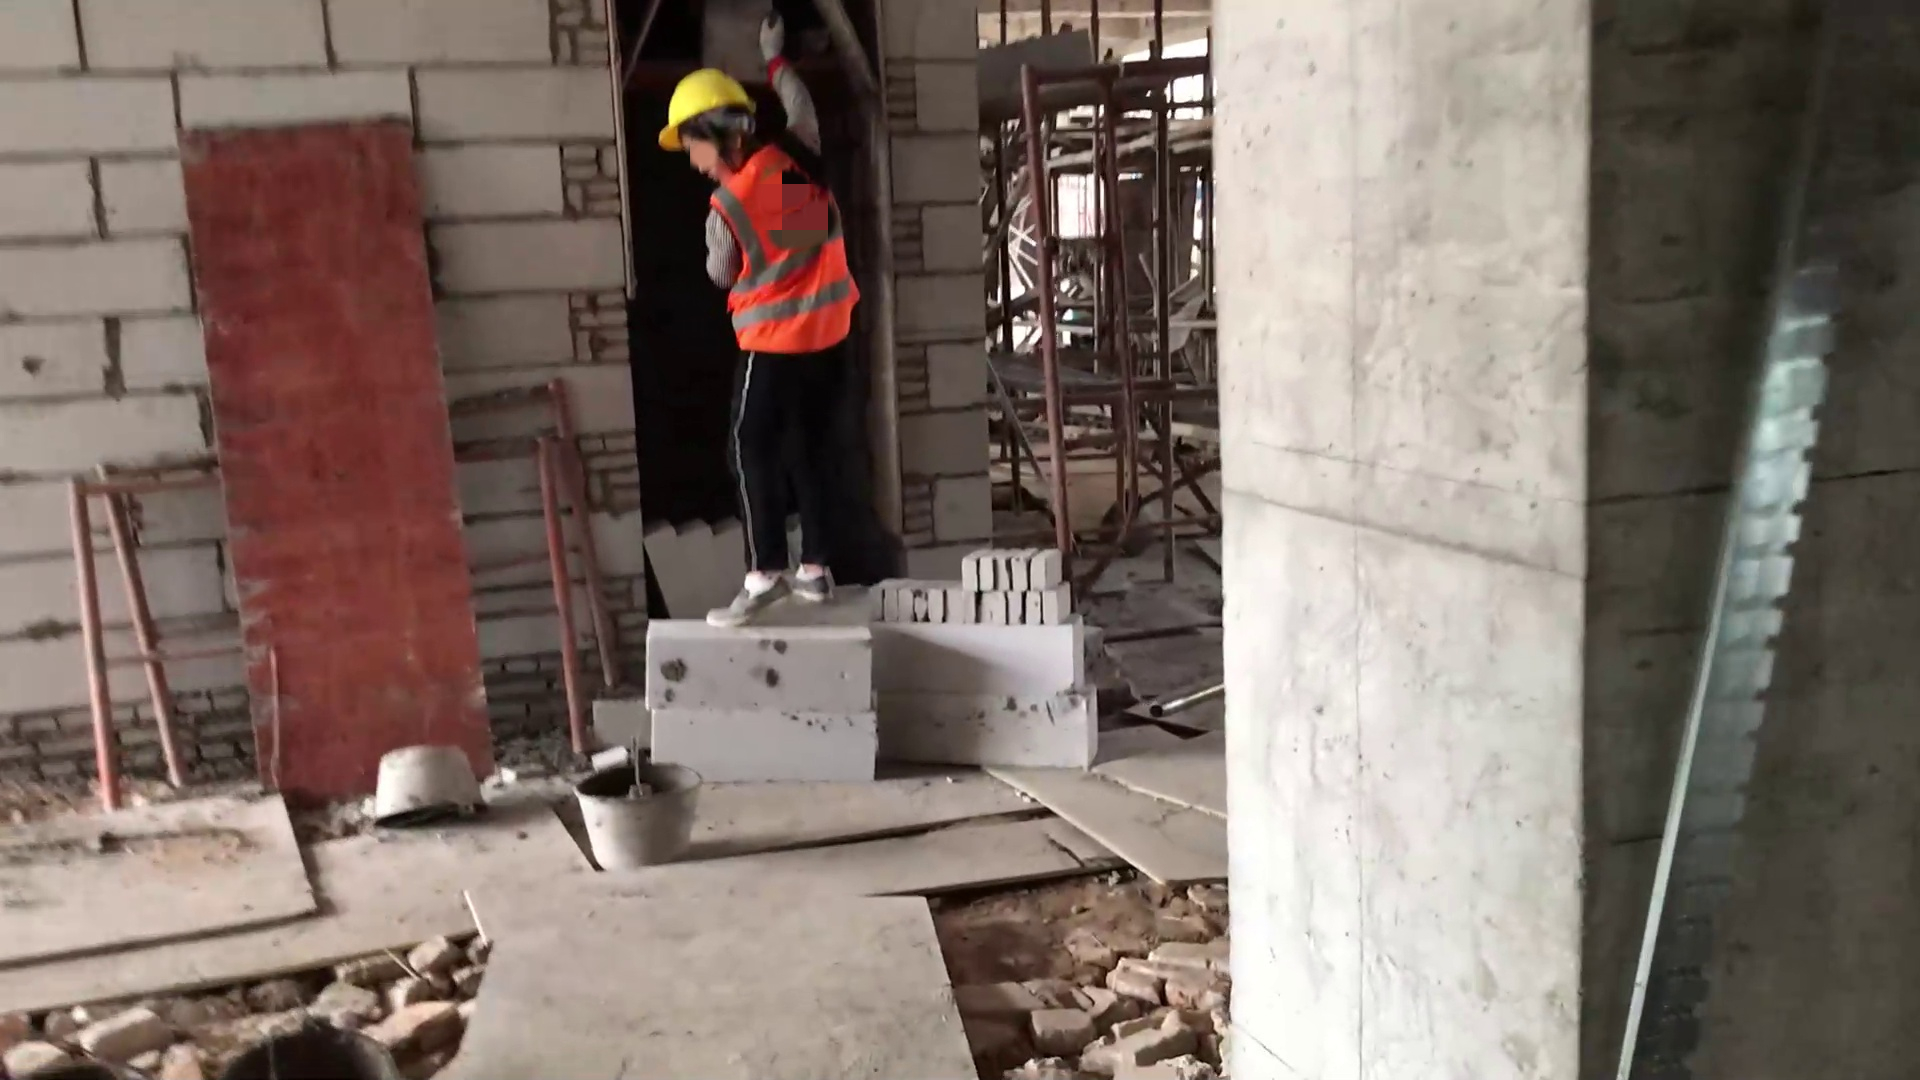helmet: (648, 64, 765, 152)
person: (641, 12, 891, 631)
vest: (703, 143, 867, 371)
